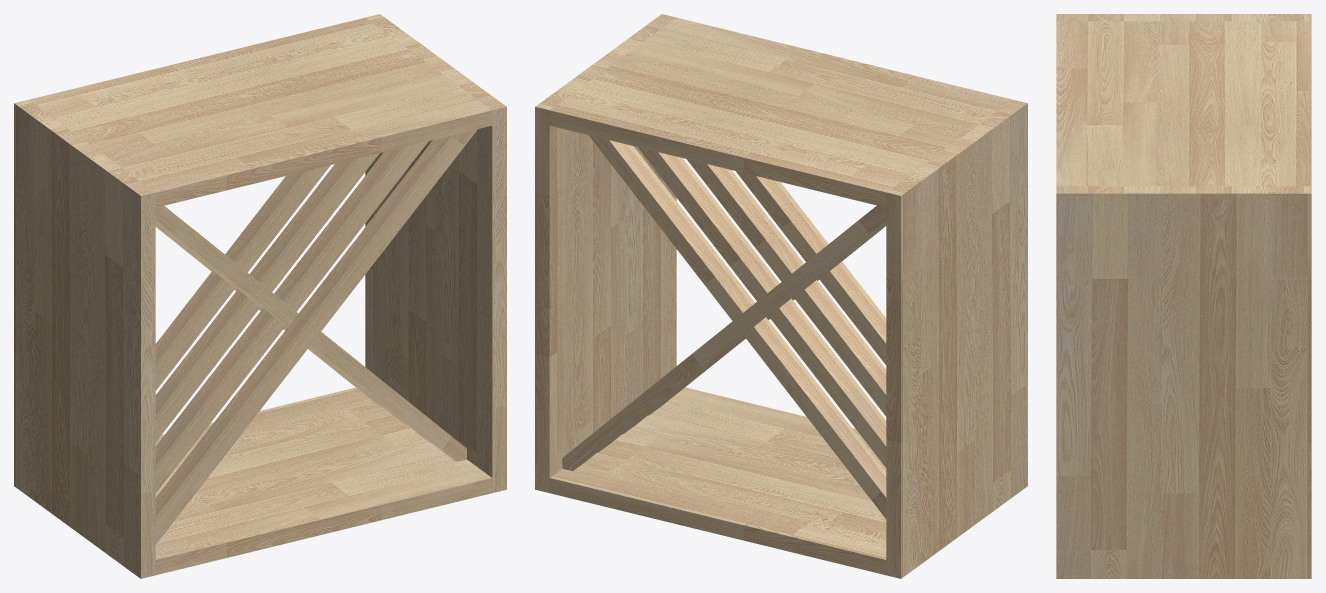
3 renders of one model, left to right at view 1: azimuth 30°, elevation 25°; view 2: azimuth 150°, elevation 25°; view 3: azimuth 270°, elevation 25°, orthographic.
Parts seen in each view (by area): view 1: Korpus side.008, Korpus bund_top.007, Korpus side.009, Korpus bund_top.006, Lamel.145, Lamel.149, Lamel.146, Lamel.148, Lamel.150; view 2: Korpus side.008, Korpus bund_top.007, Korpus side.009, Korpus bund_top.006, Lamel.148, Lamel.146, Lamel.149, Lamel.147, Lamel.145, Lamel.151; view 3: Korpus side.009, Korpus bund_top.007, Korpus side.008.
Part boxes in pixels (bbox=[...]): Korpus side.008: bbox=[14, 99, 155, 578]; Korpus bund_top.007: bbox=[29, 17, 492, 207]; Korpus side.009: bbox=[365, 14, 506, 492]; Korpus bund_top.006: bbox=[155, 387, 492, 575]; Lamel.145: bbox=[155, 129, 477, 544]; Lamel.149: bbox=[155, 141, 428, 493]; Lamel.146: bbox=[155, 153, 379, 441]; Lamel.148: bbox=[155, 165, 330, 390]; Lamel.150: bbox=[155, 206, 466, 461]; Korpus side.008: bbox=[886, 99, 1027, 578]; Korpus bund_top.007: bbox=[549, 17, 1012, 207]; Korpus side.009: bbox=[535, 14, 676, 492]; Korpus bund_top.006: bbox=[549, 387, 886, 575]; Lamel.148: bbox=[588, 135, 886, 518]; Lamel.146: bbox=[637, 147, 886, 467]; Lamel.149: bbox=[686, 159, 886, 416]; Lamel.147: bbox=[562, 205, 886, 470]; Lamel.145: bbox=[736, 171, 886, 364]; Lamel.151: bbox=[597, 221, 886, 452]; Korpus side.009: bbox=[1056, 186, 1311, 578]; Korpus bund_top.007: bbox=[1056, 21, 1311, 186]; Korpus side.008: bbox=[1056, 14, 1311, 21].
Size of the model in its own units: 0.5 by 0.5 by 0.3.
1 material, 1 textured.
